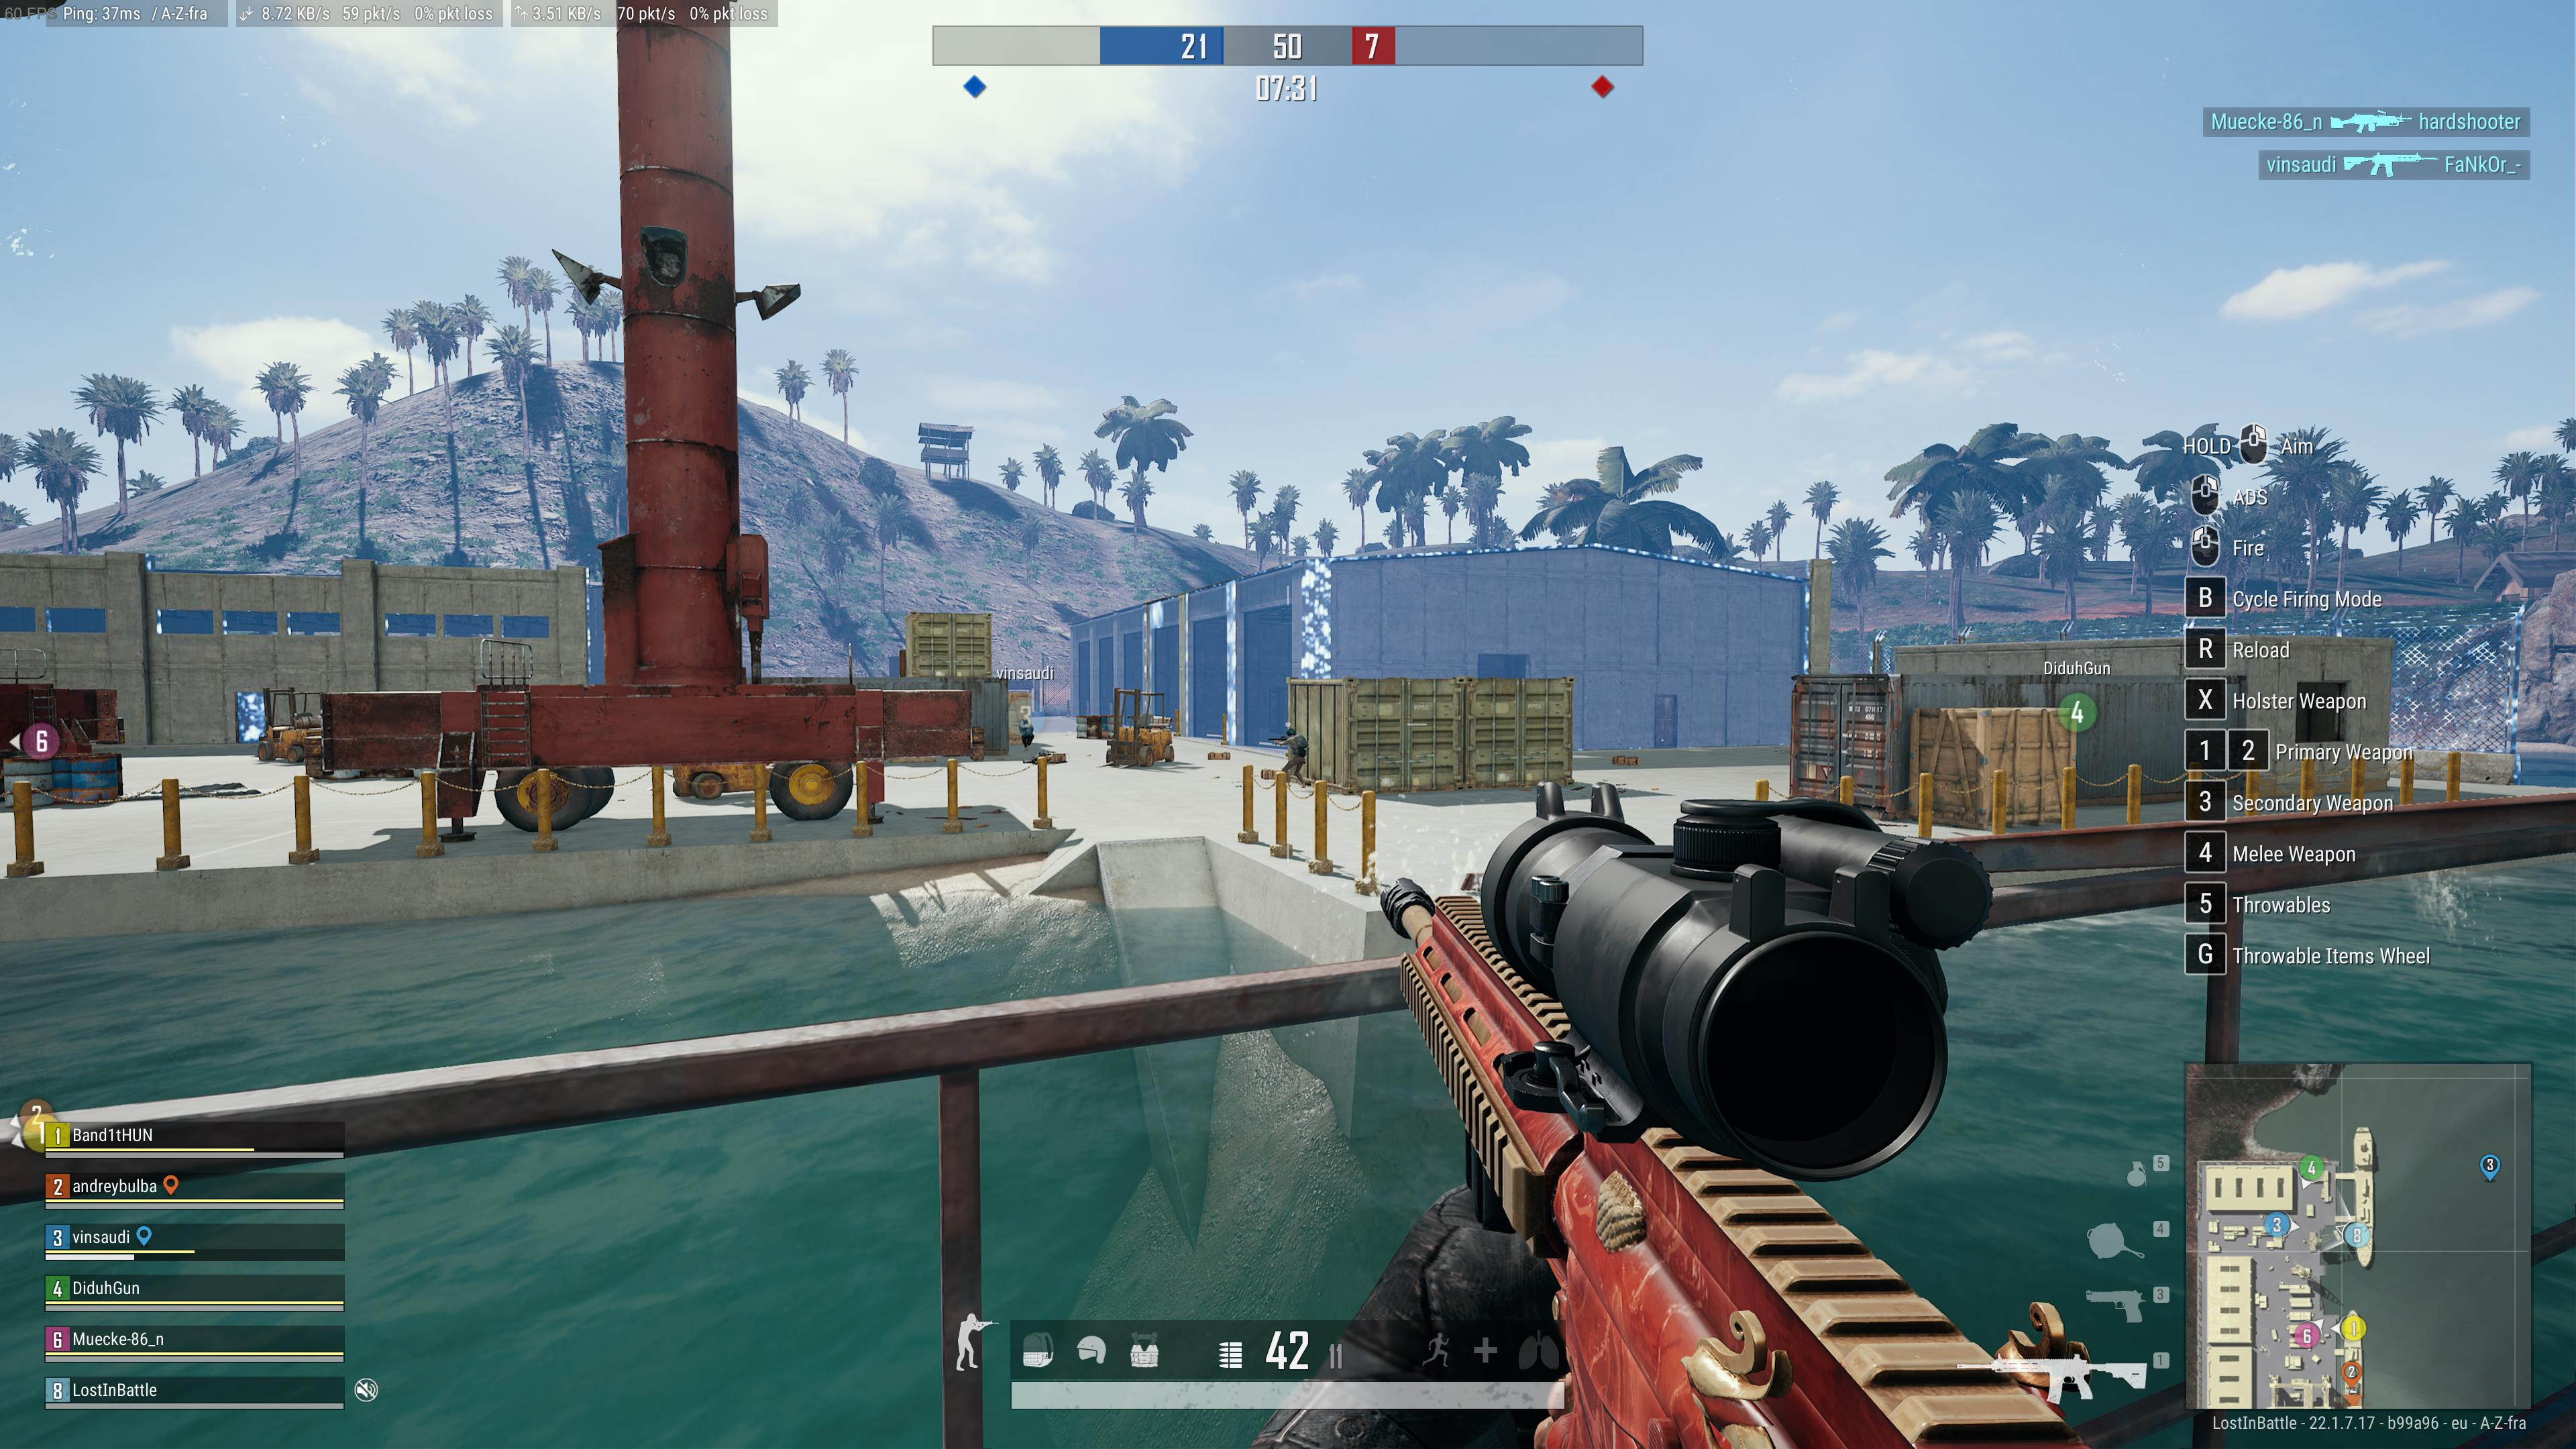enemy: (1281, 727, 1309, 787)
enemy_head: (1284, 727, 1297, 738)
friendly: (1017, 711, 1035, 750)
